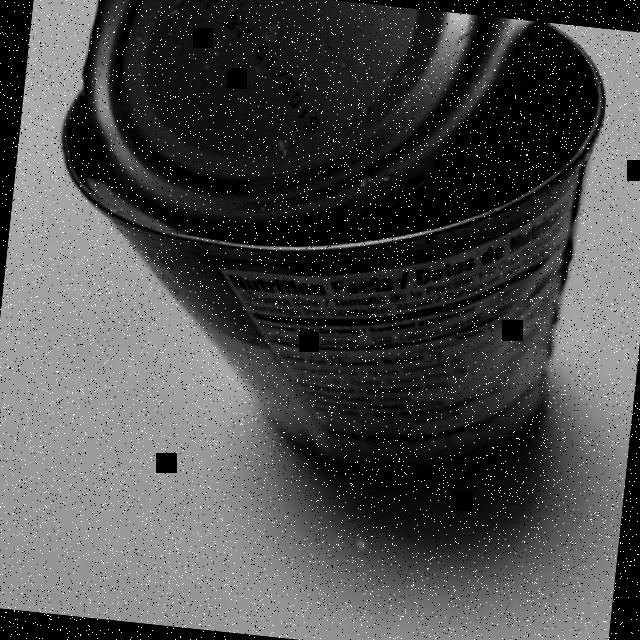can: (20, 0, 625, 500)
